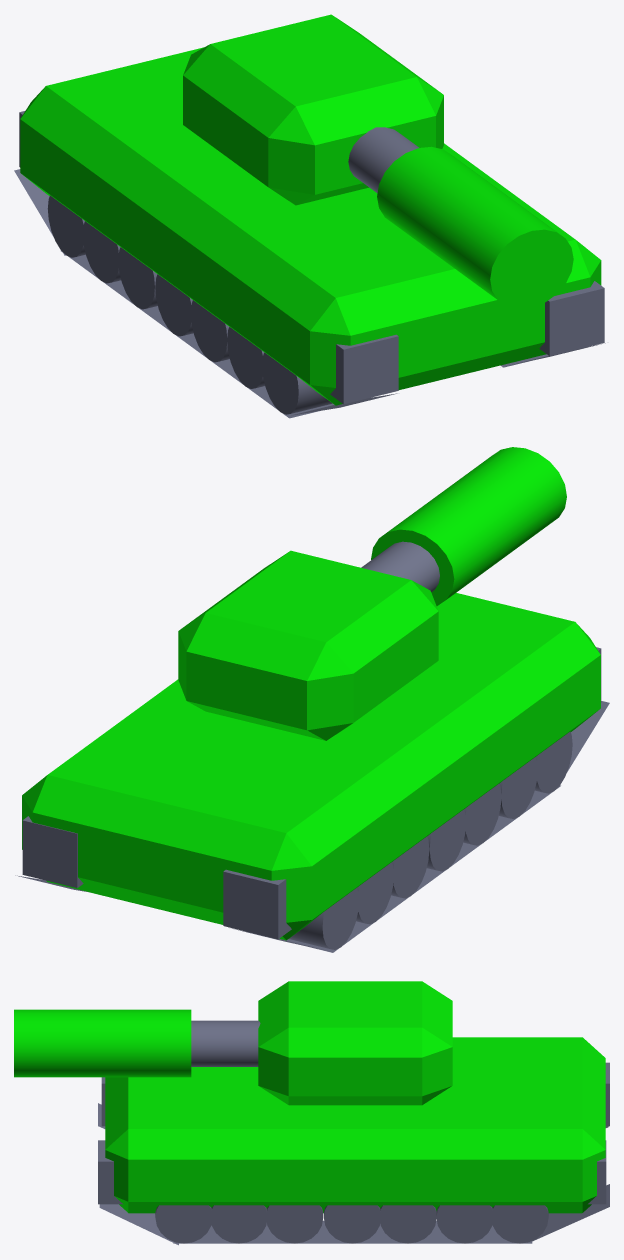
File: Tank.fbx
3 renders of one model, top to bottom at view 1: azimuth 30°, elevation 25°; view 2: azimuth 150°, elevation 25°; view 3: azimuth 270°, elevation 25°, orthographic. The views are drawn at different scales.
Visible parts, largest first — view 1: Body, pCube2, pasted__pCylinder1, Leg_R, pasted__pCube5, pCylinder1; view 2: Body, pCube2, Leg_R, pasted__pCylinder1, pasted__pCube5, pCylinder1; view 3: Body, pCube2, pasted__pCube5, pasted__pCylinder1, pCylinder1, Leg_R.
Part boxes in pixels (x1,y1,x2,y2): Body: [20, 47, 601, 405]; pCube2: [183, 14, 443, 205]; pasted__pCylinder1: [377, 146, 573, 308]; Leg_R: [14, 110, 398, 418]; pasted__pCube5: [501, 281, 605, 367]; pCylinder1: [348, 127, 419, 193]; Body: [22, 593, 600, 940]; pCube2: [178, 550, 438, 740]; Leg_R: [223, 647, 609, 952]; pasted__pCylinder1: [371, 447, 566, 605]; pasted__pCube5: [15, 816, 88, 892]; pCylinder1: [361, 541, 439, 591]; Body: [105, 1037, 605, 1213]; pCube2: [258, 981, 452, 1105]; pasted__pCube5: [98, 1140, 609, 1245]; pasted__pCylinder1: [14, 1009, 191, 1077]; pCylinder1: [191, 1020, 260, 1066]; Leg_R: [98, 1062, 609, 1128].
Bounding box in the file's own units: 1.61 × 1.28 × 3.63.
